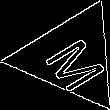M_NE: (33, 24, 108, 91)
